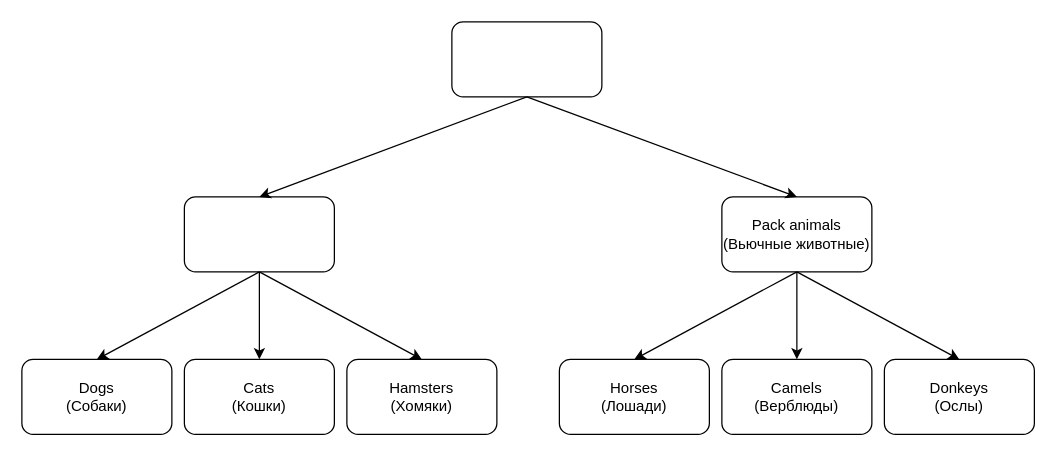
This 1056x456 diagram has some shape labels left out. The box of each missing label's shape, as (x1, y1, x2, y2) in pixels:
Animals (Животные): (451, 21, 602, 97)
Domestic animals (Домашние животные): (183, 196, 334, 272)
